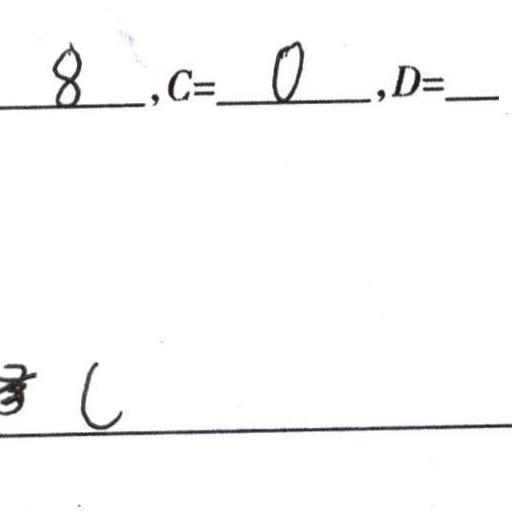ans: (74, 357, 125, 433), (270, 39, 307, 103), (50, 42, 85, 107)
